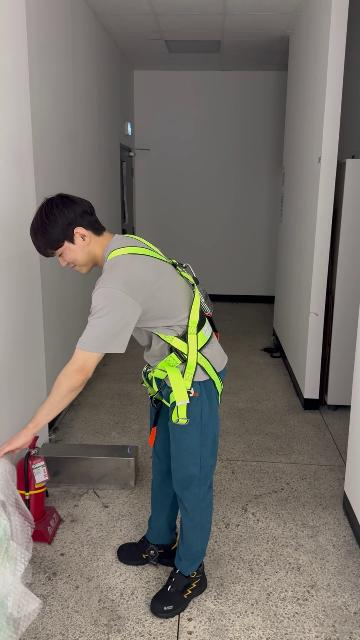helmet_not_worn: (25, 194, 108, 256)
helmet_worn: (93, 246, 226, 422)
shoe_worn: (150, 561, 207, 618), (117, 532, 178, 567)
